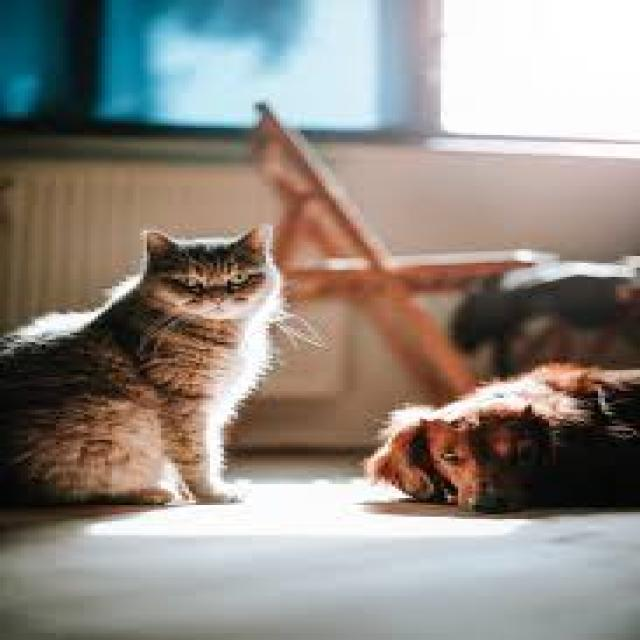Cat: (12, 229, 297, 495)
Dog: (360, 381, 640, 507)
